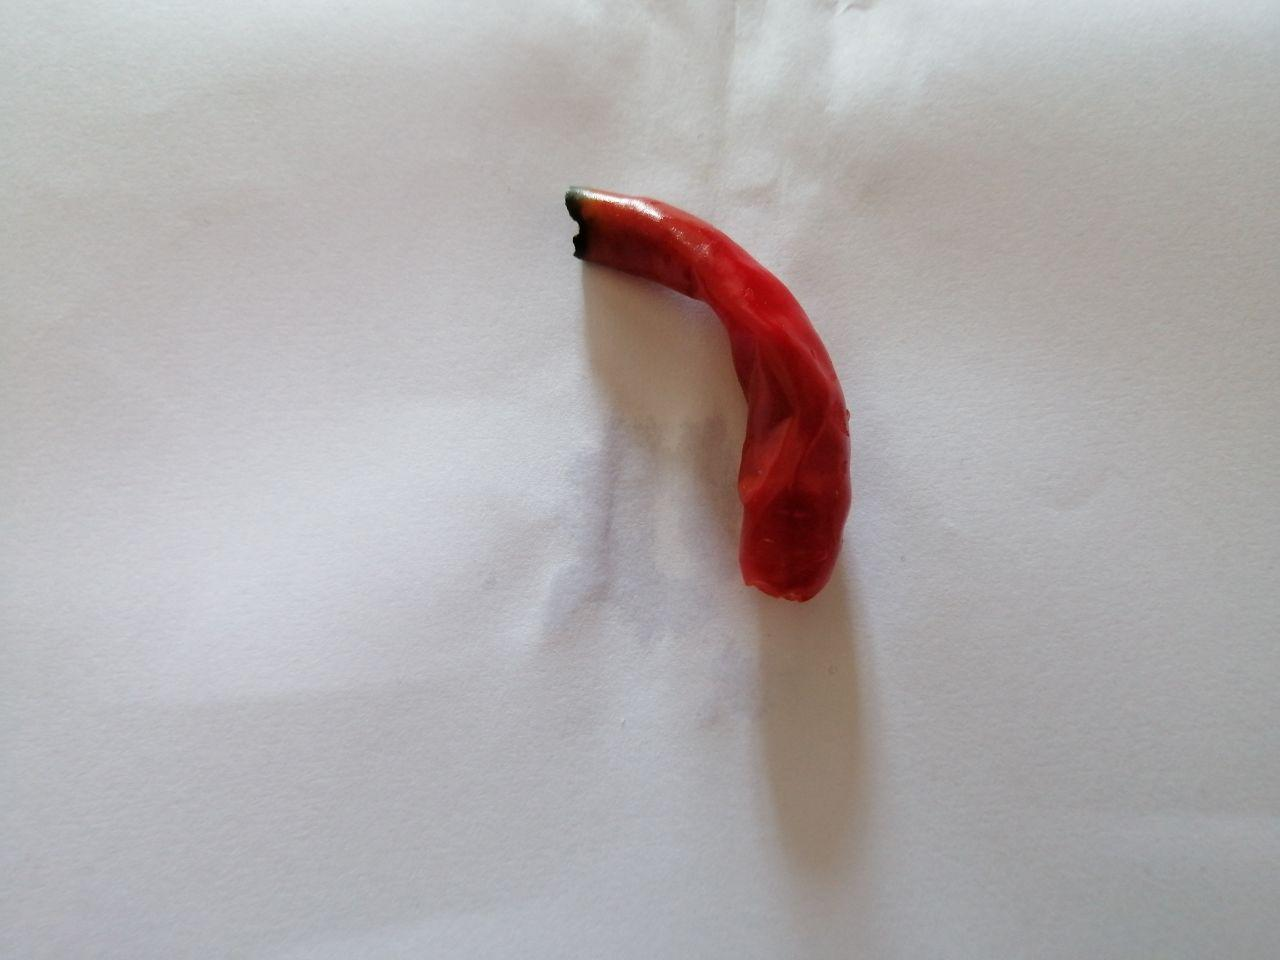lada merah: (552, 165, 880, 622)
